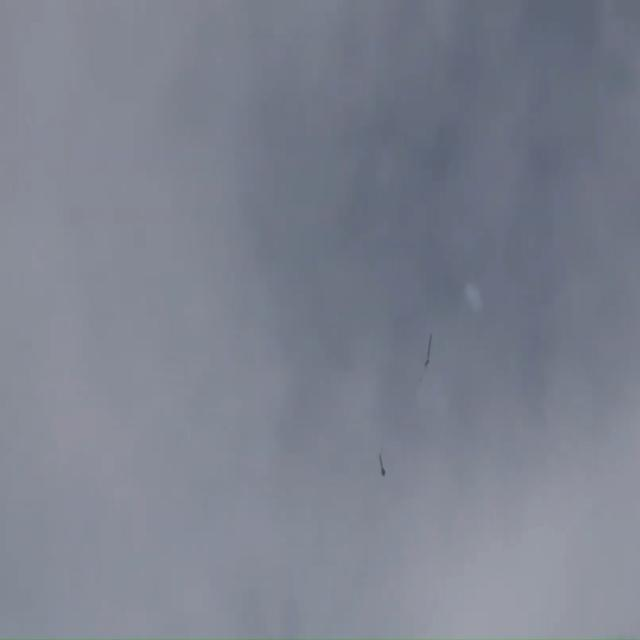Rocket: (379, 454, 385, 476)
